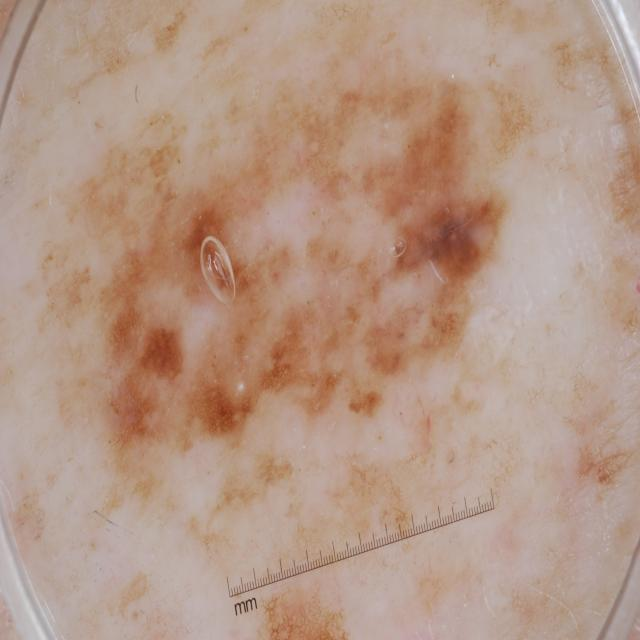Skin-Cancer Melanoma: (0, 26, 616, 640)
